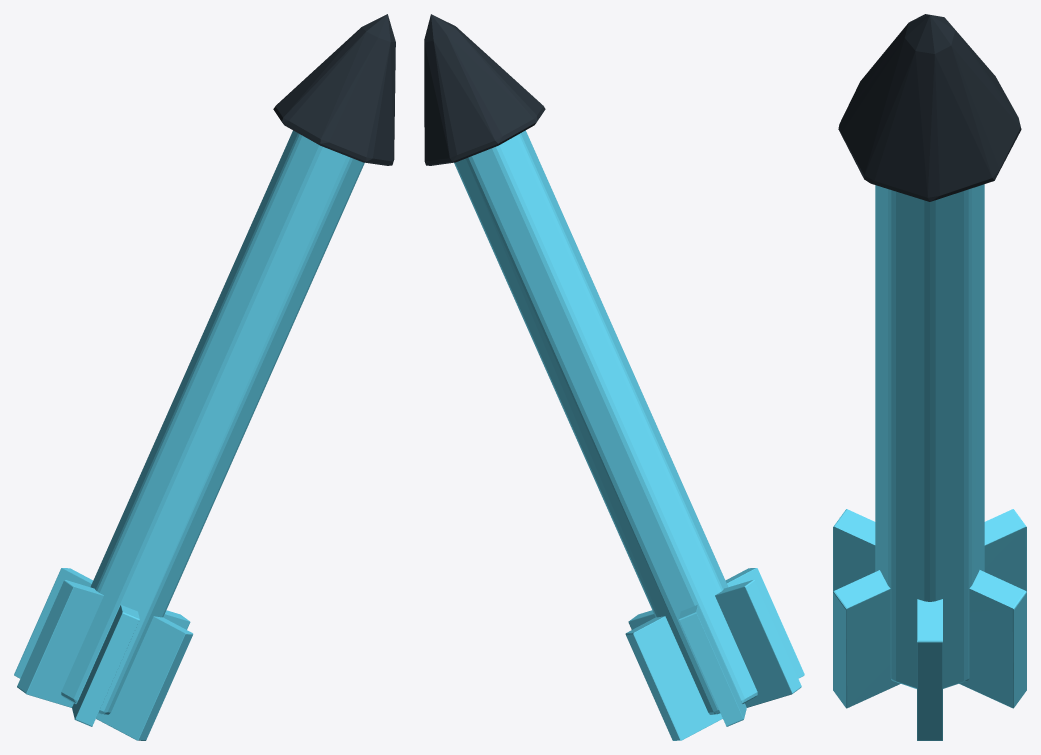
File: item_darts.glb
3 renders of one model, left to right at view 1: azimuth 30°, elevation 25°; view 2: azimuth 150°, elevation 25°; view 3: azimuth 270°, elevation 25°, orthographic. The views are drawn at different scales.
Visible parts, largest first — view 1: item_darts_part_0, item_darts_part_1, item_darts_part_4, item_darts_part_2, item_darts_part_3; view 2: item_darts_part_0, item_darts_part_1, item_darts_part_3, item_darts_part_2, item_darts_part_4; view 3: item_darts_part_0, item_darts_part_1, item_darts_part_3, item_darts_part_4, item_darts_part_2.
Part boxes in pixels (x1=…): item_darts_part_0: x1=61, y1=130, x2=364, y2=714; item_darts_part_1: x1=273, y1=14, x2=395, y2=165; item_darts_part_4: x1=14, y1=568, x2=193, y2=740; item_darts_part_2: x1=17, y1=580, x2=190, y2=707; item_darts_part_3: x1=72, y1=605, x2=139, y2=726; item_darts_part_0: x1=454, y1=130, x2=757, y2=714; item_darts_part_1: x1=424, y1=14, x2=545, y2=165; item_darts_part_3: x1=625, y1=568, x2=804, y2=740; item_darts_part_2: x1=628, y1=579, x2=801, y2=707; item_darts_part_4: x1=679, y1=605, x2=746, y2=726; item_darts_part_0: x1=875, y1=184, x2=984, y2=688; item_darts_part_1: x1=838, y1=14, x2=1021, y2=201; item_darts_part_3: x1=833, y1=509, x2=1026, y2=708; item_darts_part_4: x1=833, y1=509, x2=1026, y2=708; item_darts_part_2: x1=917, y1=599, x2=942, y2=740.
Size of the model in its own units: 0.7881 by 1.32 by 0.2596.
